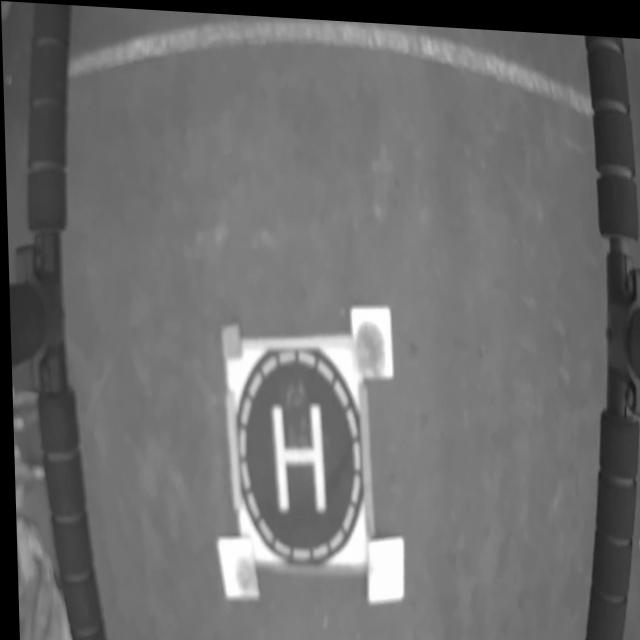Helipad: (267, 400, 324, 510)
